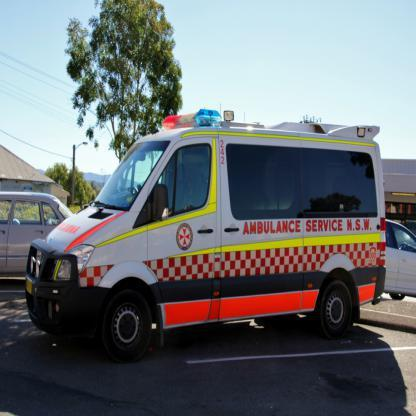ambulance_off: (22, 107, 384, 362)
